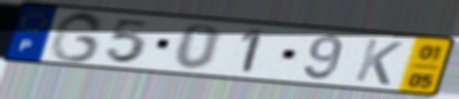0: (172, 22, 225, 72)
1: (239, 28, 265, 76)
5: (102, 18, 156, 65)
9: (301, 34, 345, 81)
G: (46, 10, 109, 64)
K: (351, 36, 406, 87)
